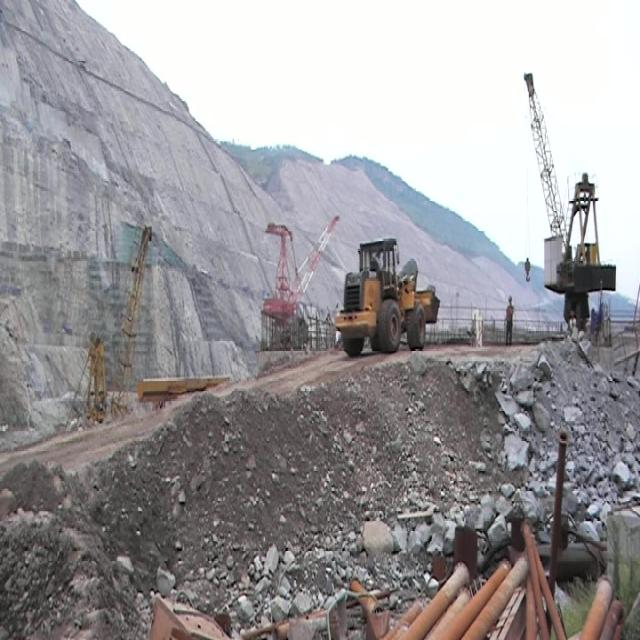crane: (524, 72, 615, 328), (65, 224, 153, 428), (261, 214, 341, 328)
machinery: (334, 236, 439, 356)
